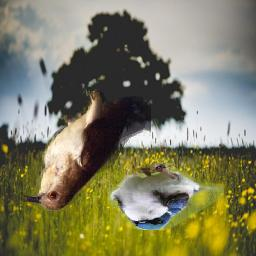Cuckoo: (21, 89, 151, 211)
Swallow: (108, 164, 224, 231)
